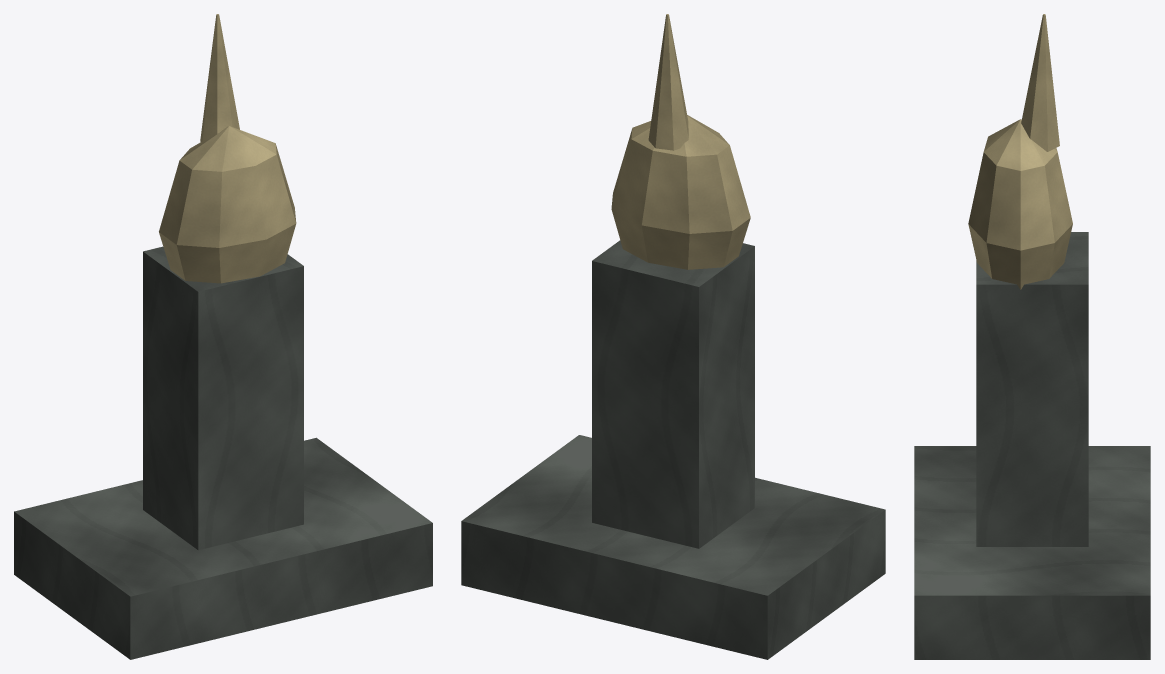
Rendered from Shrine_MutantSaint.glb.
3 views of the same model, side by side, from view 1: azimuth 30°, elevation 25°; view 2: azimuth 150°, elevation 25°; view 3: azimuth 270°, elevation 25° (orthographic).
Parts seen in each view (by area): view 1: Shrine_MutantSaint; view 2: Shrine_MutantSaint; view 3: Shrine_MutantSaint.
Boxes of the visible parts, box(x1,y1,x2,y2) form: Shrine_MutantSaint: box(14, 14, 432, 659); Shrine_MutantSaint: box(461, 14, 885, 659); Shrine_MutantSaint: box(914, 14, 1150, 659).
Bounding box in the file's own units: 1.2 × 2.13 × 0.8.
Materials: 2 (2 with a texture image).
